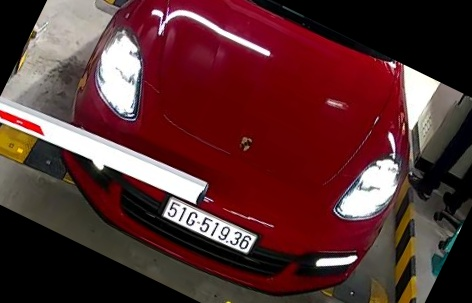plate: (160, 193, 261, 260)
